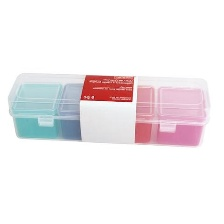plastic_box: (3, 64, 216, 153)
